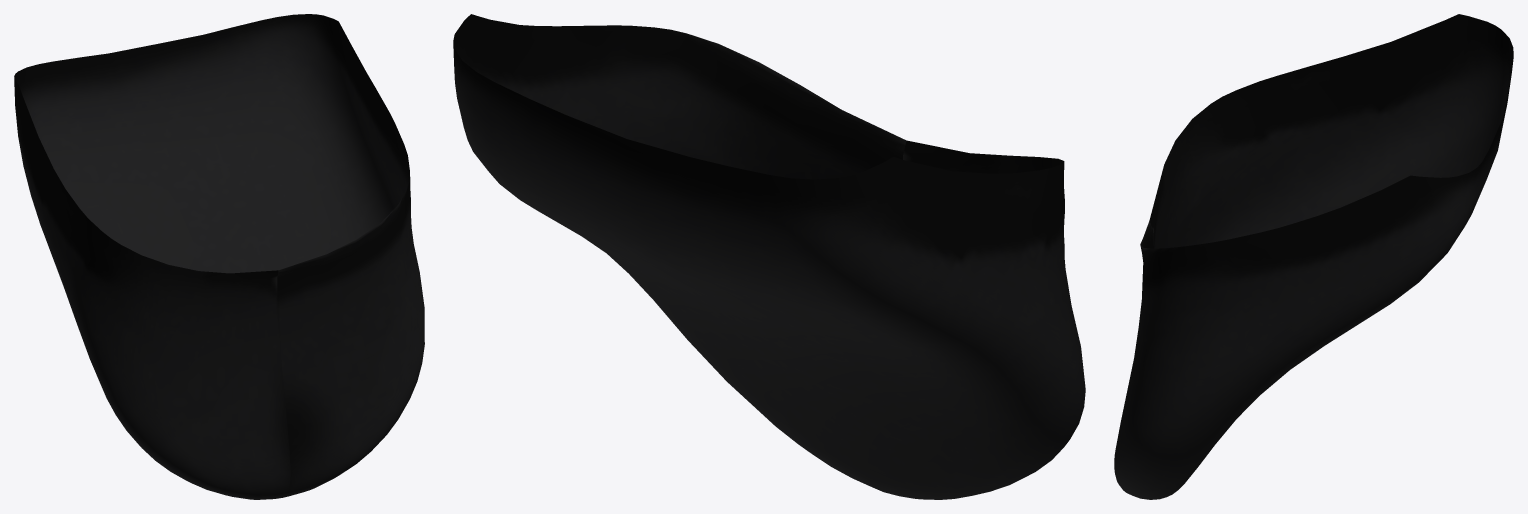
Rendered from trigger_left.obj.
3 renders of one model, left to right at view 1: azimuth 30°, elevation 25°; view 2: azimuth 150°, elevation 25°; view 3: azimuth 270°, elevation 25°, orthographic. The views are drawn at different scales.
Visible parts, largest first — view 1: trigger; view 2: trigger; view 3: trigger.
Boxes of the visible parts, bbox=[...] form: trigger: bbox=[14, 14, 424, 499]; trigger: bbox=[453, 14, 1085, 499]; trigger: bbox=[1114, 14, 1513, 499].
Size of the model in its own units: 0.0185 by 0.0194 by 0.0173.
1 material, 1 textured.
